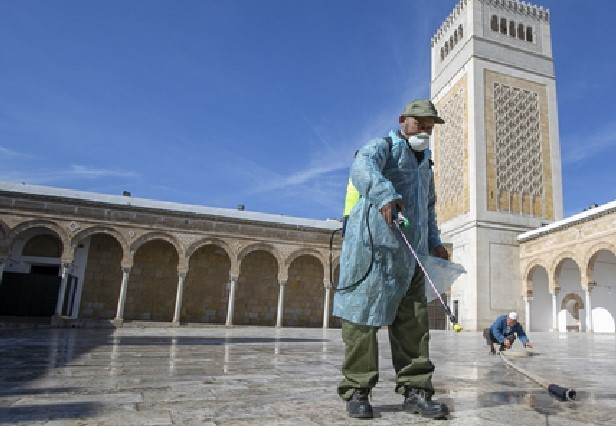face_with_mask: (399, 101, 443, 153)
